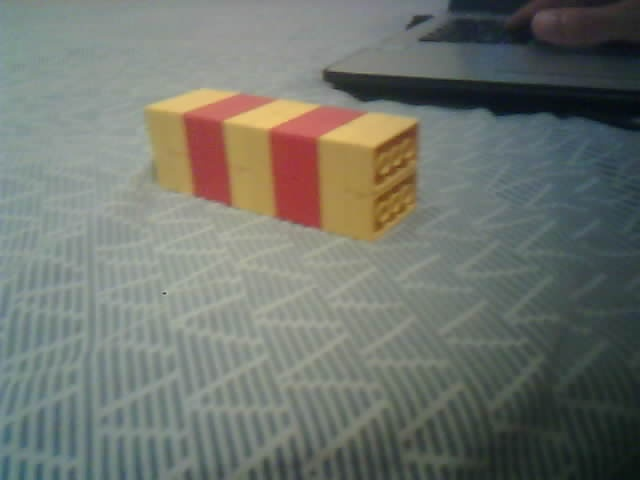lego: (141, 86, 420, 244)
